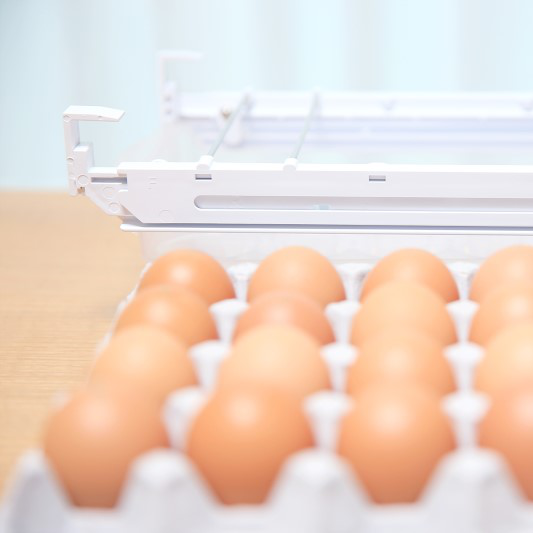egg: (47, 243, 533, 509)
